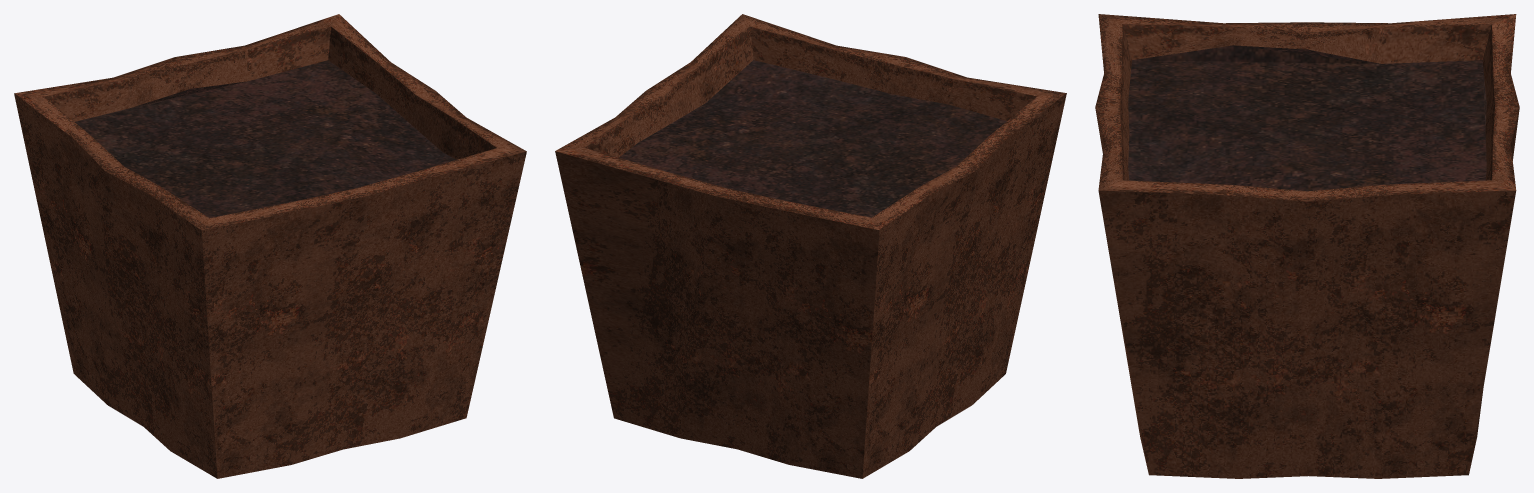
File: plant.fbx
3 renders of one model, left to right at view 1: azimuth 30°, elevation 25°; view 2: azimuth 150°, elevation 25°; view 3: azimuth 270°, elevation 25°, orthographic. The views are drawn at different scales.
Parts seen in each view (by area): view 1: pot; view 2: pot; view 3: pot.
Boxes of the visible parts, x1,y1,x2,y2 form: pot: (14, 14, 526, 478); pot: (555, 14, 1066, 478); pot: (1095, 14, 1519, 478).
Bounding box in the file's own units: 134 × 106 × 134.
Materials: 1 (1 with a texture image).
